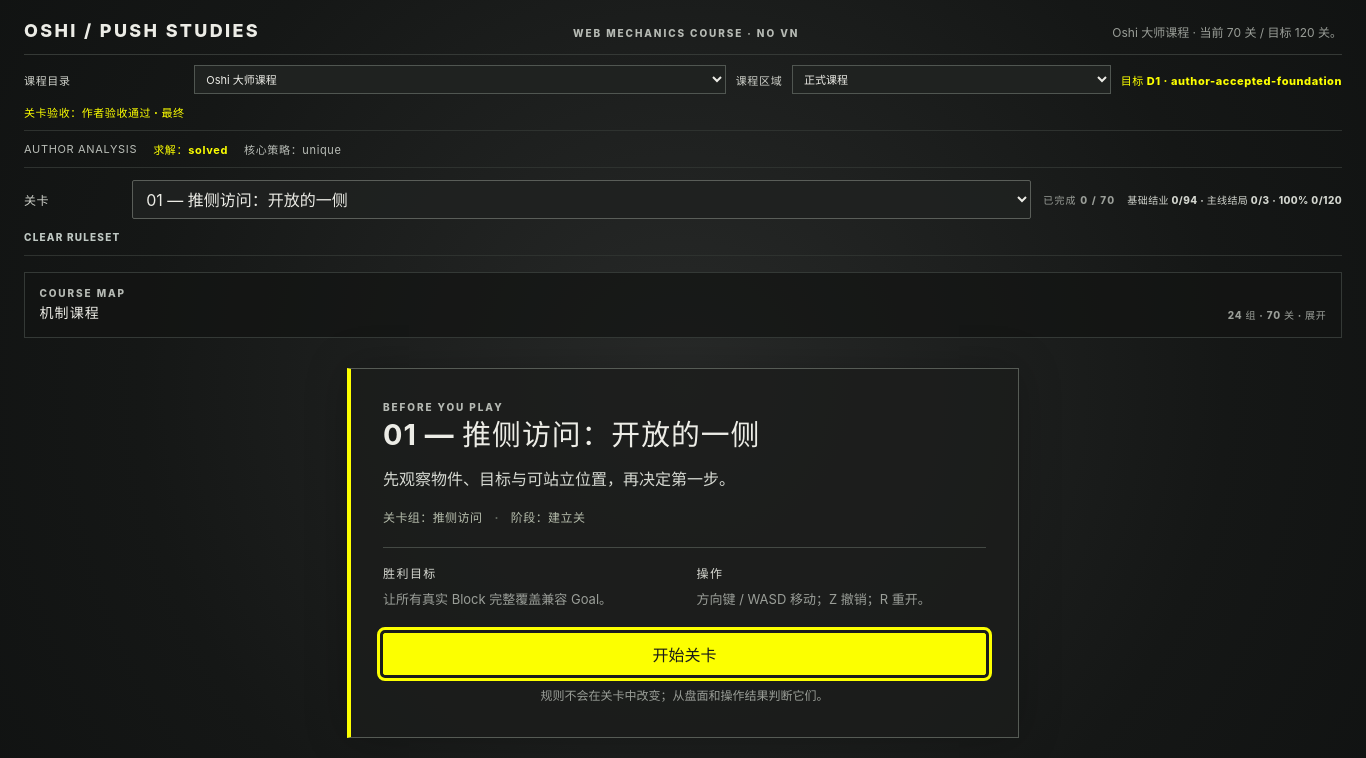
offers 雨岸 as a separate Rain branch without changing the Goal pair order
Select "开发实验室" in the dropdown labelled "课程区域": [952, 80] box [792,65,1111,94]
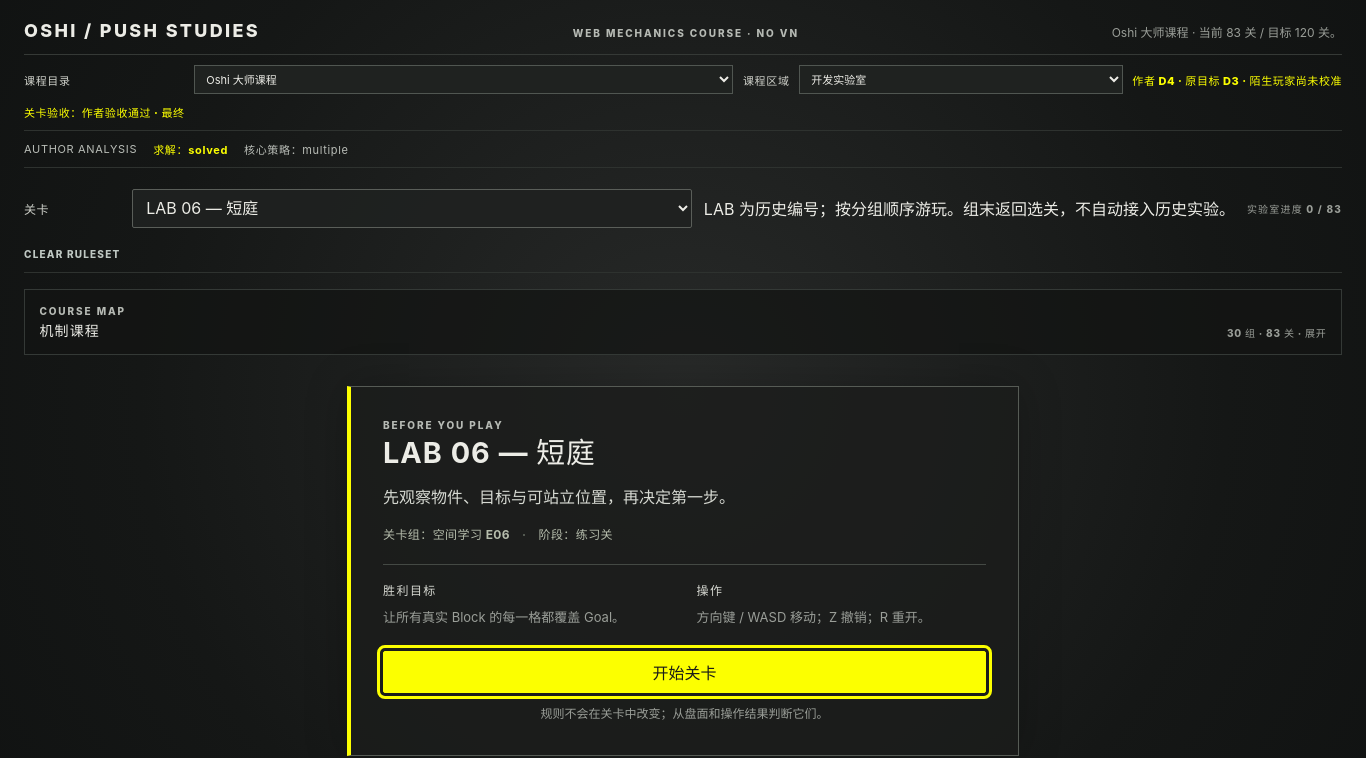
Select "LAB 30 — 雨岸" in the dropdown labelled "关卡": [412, 208] box [132,189,692,228]
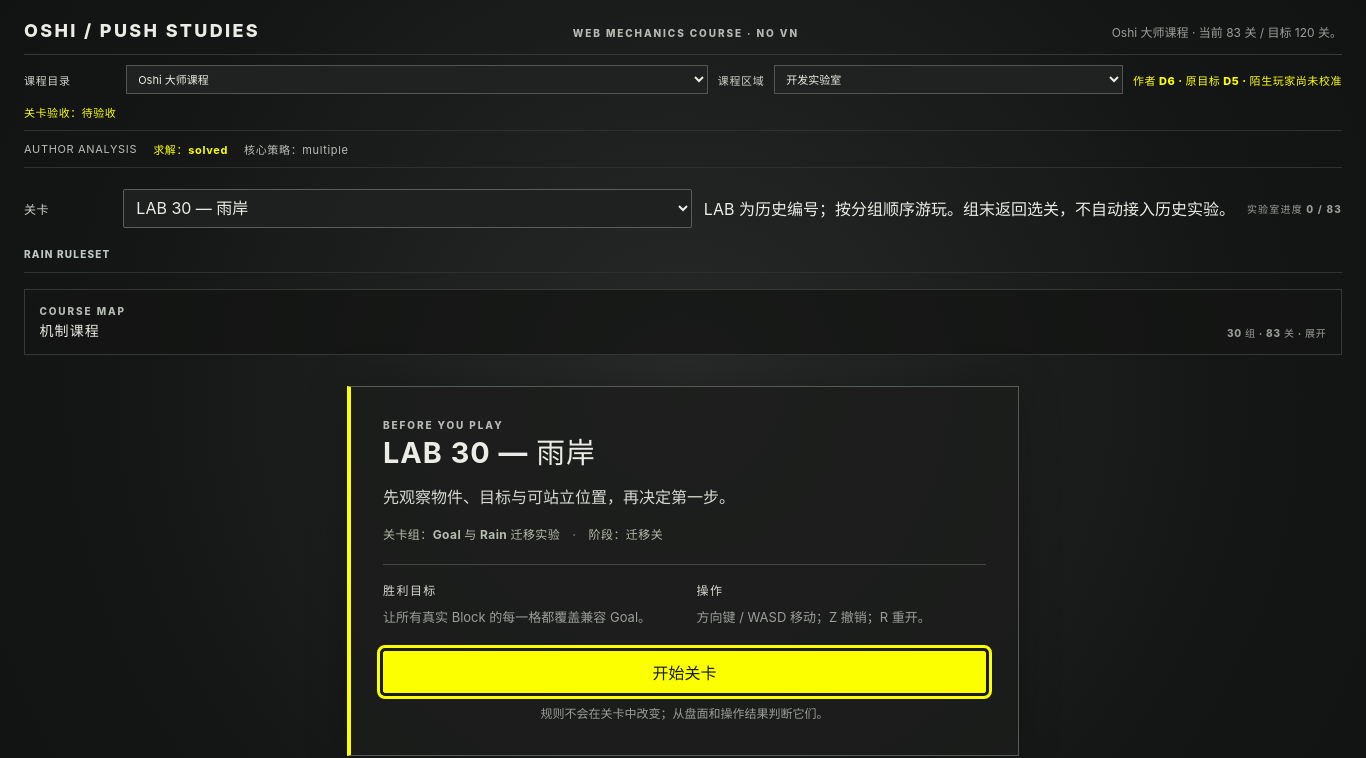
Expected: the heading "LAB 30 — 雨岸" is shown, [383,435,596,470]
Click the button "开始关卡": [684, 672] box [383,651,986,693]
(page scrolled)
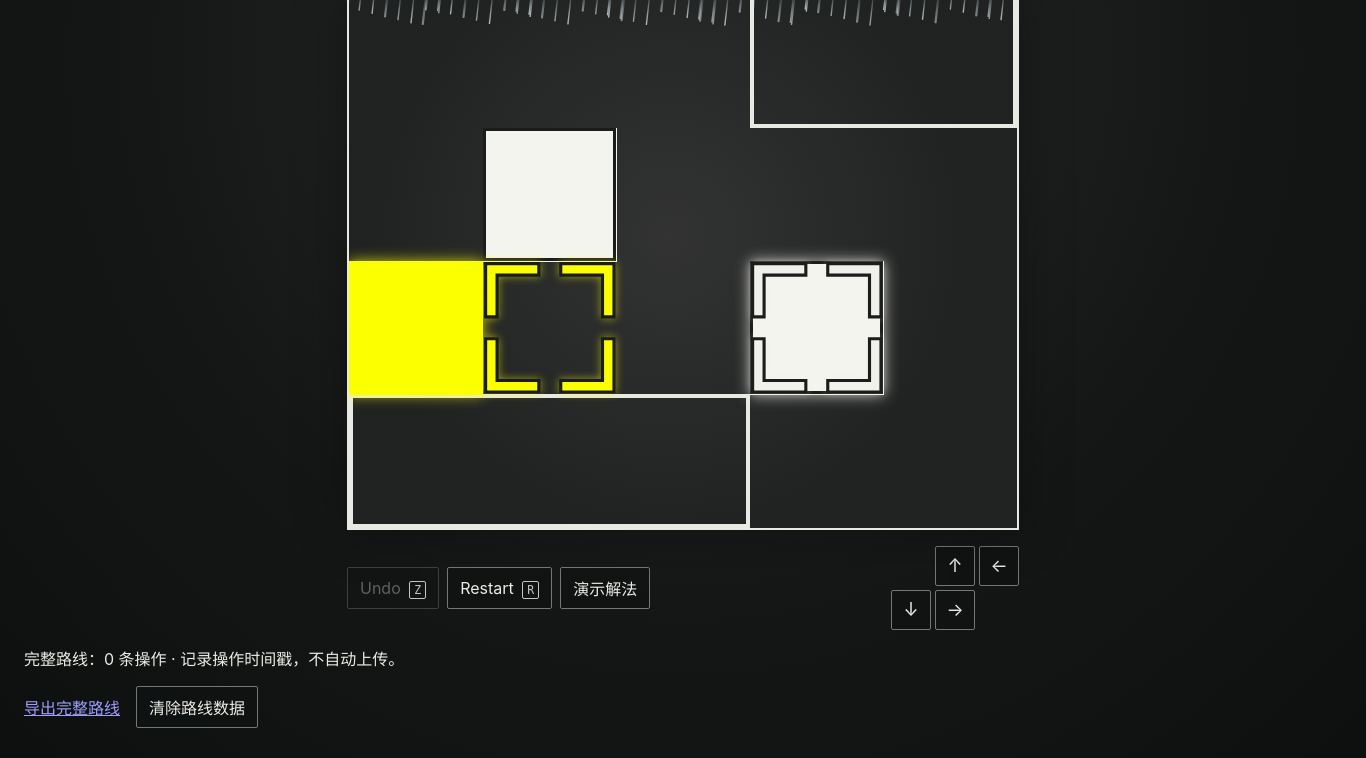
Expected: the button "演示解法" is shown, [560,567,650,609]
